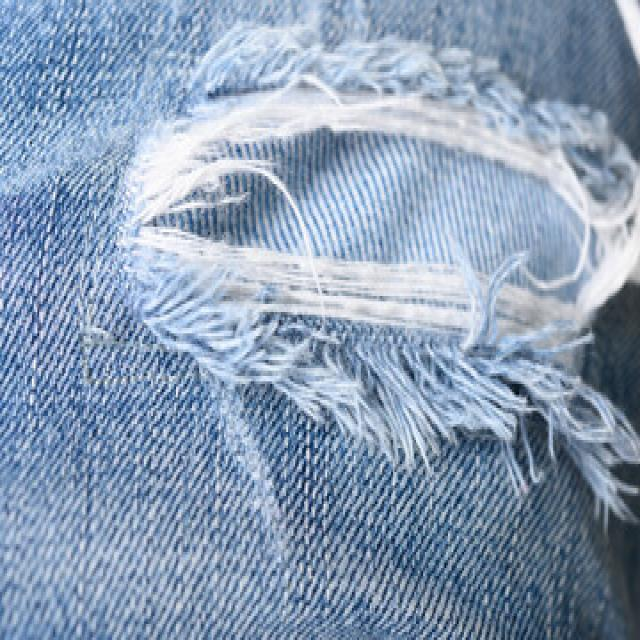Hole: (125, 73, 640, 466)
